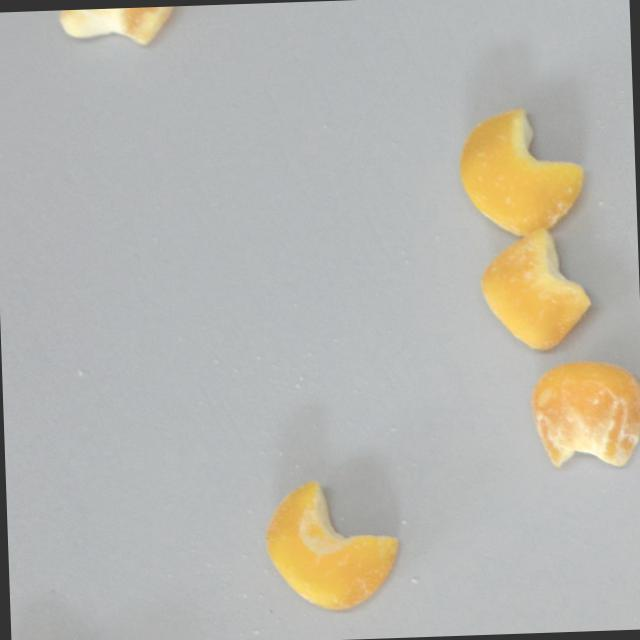pelicula: (262, 476, 402, 611), (456, 105, 587, 236), (477, 224, 592, 351), (529, 356, 640, 469), (57, 5, 178, 48)
